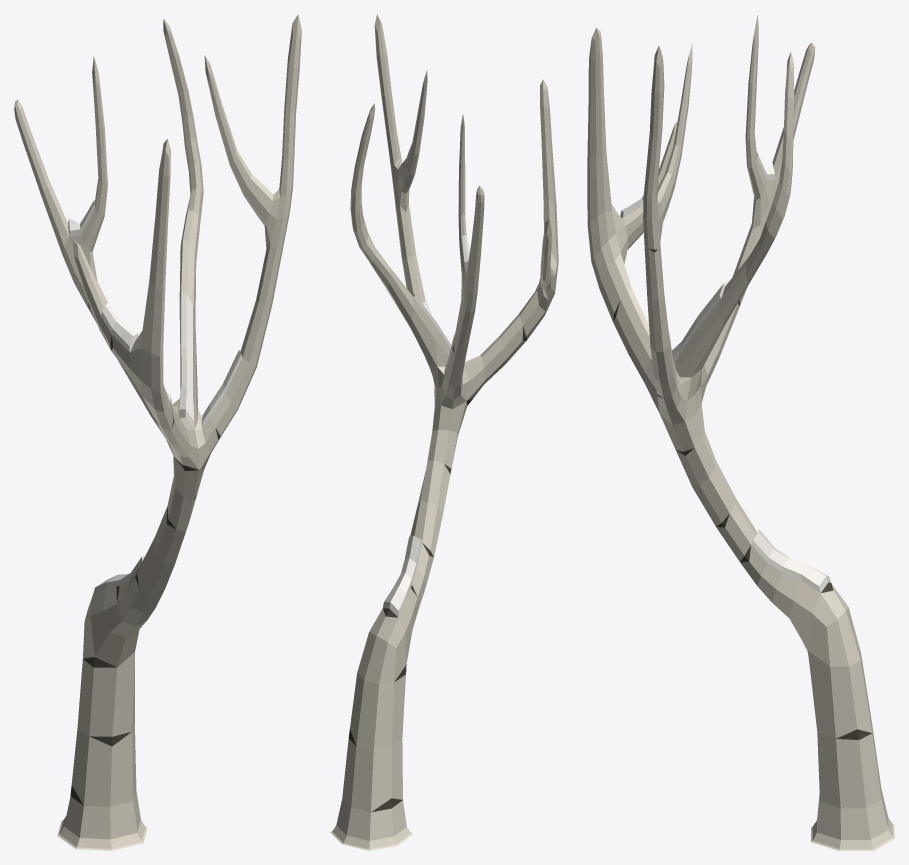
The model's file is BirchTree_Dead_Snow_2.glb.
3 views of the same model, side by side, from view 1: azimuth 30°, elevation 25°; view 2: azimuth 150°, elevation 25°; view 3: azimuth 270°, elevation 25° (orthographic). The views are drawn at different scales.
Parts seen in each view (by area): view 1: BirchTree_Dead_Snow_2; view 2: BirchTree_Dead_Snow_2; view 3: BirchTree_Dead_Snow_2.
Boxes of the visible parts, <box> form: BirchTree_Dead_Snow_2: <box>14,14,301,850</box>; BirchTree_Dead_Snow_2: <box>330,14,558,850</box>; BirchTree_Dead_Snow_2: <box>587,15,894,850</box>.
Size of the model in its own units: 0.6885 by 2.63 by 0.8811.
